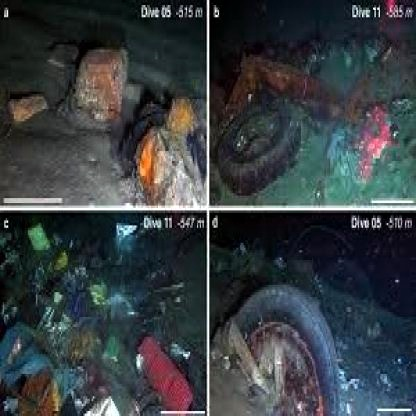pbottle: (127, 319, 197, 411)
plastic: (10, 77, 58, 141), (1, 342, 53, 374), (23, 220, 57, 258)
tire: (237, 267, 365, 416), (215, 77, 311, 193)
